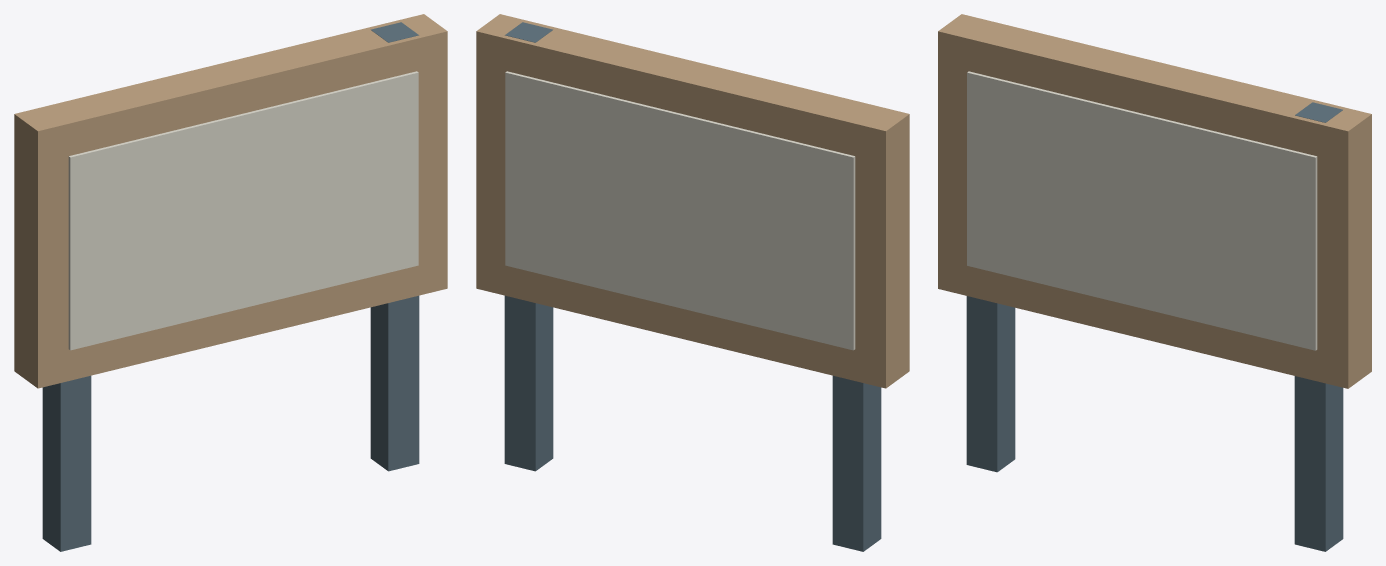
Rendered from voxel-city-districts-notice-board-c69ed54f__24860.glb.
The picture shows the model from 3 angles, left to right: view 1: azimuth 30°, elevation 25°; view 2: azimuth 150°, elevation 25°; view 3: azimuth 330°, elevation 25°; orthographic projection.
Visible parts, largest first — view 1: notice-board-concrete, notice-board-wood, notice-board-dark; view 2: notice-board-concrete, notice-board-wood, notice-board-dark; view 3: notice-board-concrete, notice-board-wood, notice-board-dark.
Boxes of the visible parts, box(x1,y1,x2,y2) form: notice-board-concrete: box(68, 71, 418, 350); notice-board-wood: box(14, 14, 447, 388); notice-board-dark: box(42, 22, 419, 551); notice-board-concrete: box(505, 71, 855, 350); notice-board-wood: box(476, 14, 909, 388); notice-board-dark: box(504, 22, 881, 551); notice-board-concrete: box(967, 71, 1317, 350); notice-board-wood: box(938, 14, 1371, 388); notice-board-dark: box(966, 102, 1343, 551).
Size of the model in its own units: 2 by 2 by 0.2299.
